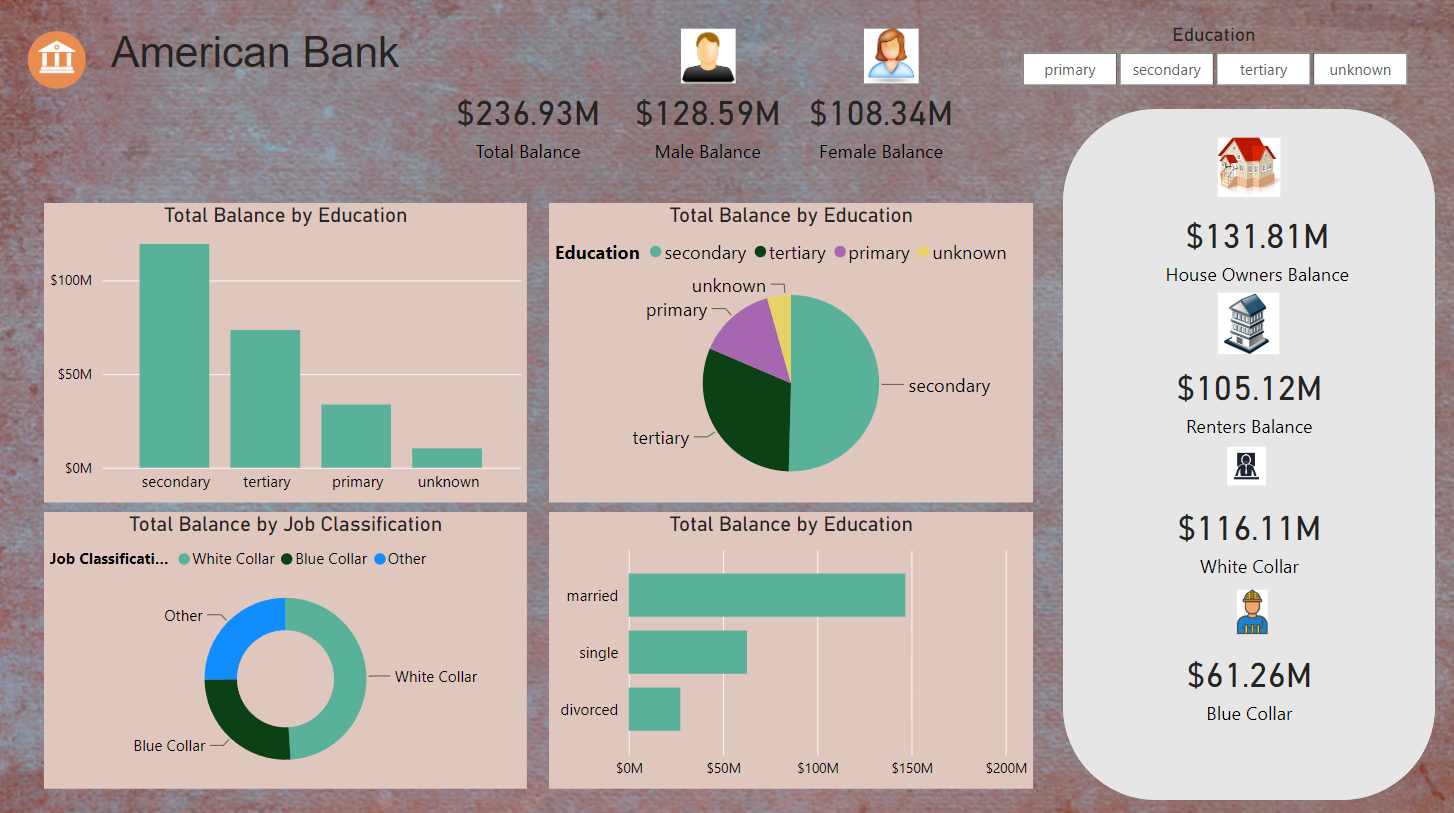

The dashboard page shown, as its layout file describes it:
{"tool":"powerbi","page":{"name":"ABFINAL1 ","canvas":[1280,720],"ordinal":0},"visuals":[{"type":"card","fields":{"Values":["All Measures.Total Balance"]},"box":[392.3,71.2,147.7,79.2],"z":0},{"type":"card","fields":{"Values":["All Measures.Male Balance"]},"box":[550.6,71.2,146.8,79.2],"z":1000},{"type":"card","fields":{"Values":["All Measures.Female Balance"]},"box":[703.6,71.2,145.9,79.2],"z":2000},{"type":"columnChart","title":"Total Balance by Education","fields":{"Y":["All Measures.Total Balance"],"Category":["American Bank.education"]},"box":[41.3,181.8,424.1,263.4],"z":3000},{"type":"barChart","title":"Total Balance by Education","fields":{"Category":["American Bank.marital"],"Y":["All Measures.Total Balance"]},"box":[484.7,453.1,425,243.2],"z":4000},{"type":"donutChart","title":"Total Balance by Job Classification","fields":{"Category":["American Bank.Job Classification"],"Y":["All Measures.Total Balance"]},"box":[41.3,453.1,424.1,243.2],"z":5000},{"type":"pieChart","title":"Total Balance by Education","fields":{"Category":["American Bank.education"],"Y":["All Measures.Total Balance"]},"box":[484.7,181.8,425,263.4],"z":6000},{"type":"textbox","box":[89.6,23.7,274,75.5],"z":7000},{"type":"image","box":[22,23.7,60.6,65.9],"z":8000},{"type":"image","box":[593.6,23.7,61.5,58],"z":9000},{"type":"image","box":[754.2,23.7,62.3,58],"z":10000},{"type":"slicer","title":"Education","fields":{"Values":["American Bank.education"]},"box":[874.5,23.7,388.1,62.3],"z":11000},{"type":"shape","box":[936,99.2,326.6,606.7],"z":12000},{"type":"card","fields":{"Values":["All Measures.House Owners Balance"]},"box":[1017.6,181.5,177.9,73.8],"z":13000},{"type":"card","fields":{"Values":["All Measures.Renters Balance"]},"box":[1010.5,313.1,177.9,77.4],"z":14000},{"type":"card","fields":{"Values":["All Measures.White Collar"]},"box":[1010.5,435,177.9,81.8],"z":15000},{"type":"card","fields":{"Values":["All Measures.Blue Collar"]},"box":[1010.5,565.7,177.9,78.3],"z":16000},{"type":"image","box":[1058.5,119.2,80.9,62.3],"z":17000},{"type":"image","box":[1058.5,255.3,80.9,64],"z":18000},{"type":"image","box":[1068,516.4,68.6,49.3],"z":19000},{"type":"image","box":[1058.3,390.6,78.3,44],"z":20000}]}

Visuals, with their boxes in screenshot pixels (x1, y1, x2, y2), scaled from the page's 1280x720 canvas onto the 1454x813 screenshot:
card - All Measures.Total Balance: <box>446,80,613,170</box>
card - All Measures.Male Balance: <box>625,80,792,170</box>
card - All Measures.Female Balance: <box>799,80,965,170</box>
"Total Balance by Education" columnChart: <box>47,205,529,503</box>
"Total Balance by Education" barChart: <box>551,512,1033,786</box>
"Total Balance by Job Classification" donutChart: <box>47,512,529,786</box>
"Total Balance by Education" pieChart: <box>551,205,1033,503</box>
textbox: <box>102,27,413,112</box>
image: <box>25,27,94,101</box>
image: <box>674,27,744,92</box>
image: <box>857,27,927,92</box>
"Education" slicer: <box>993,27,1434,97</box>
shape: <box>1063,112,1434,797</box>
card - All Measures.House Owners Balance: <box>1156,205,1358,288</box>
card - All Measures.Renters Balance: <box>1148,354,1350,441</box>
card - All Measures.White Collar: <box>1148,491,1350,584</box>
card - All Measures.Blue Collar: <box>1148,639,1350,727</box>
image: <box>1202,135,1294,205</box>
image: <box>1202,288,1294,361</box>
image: <box>1213,583,1291,639</box>
image: <box>1202,441,1291,491</box>
